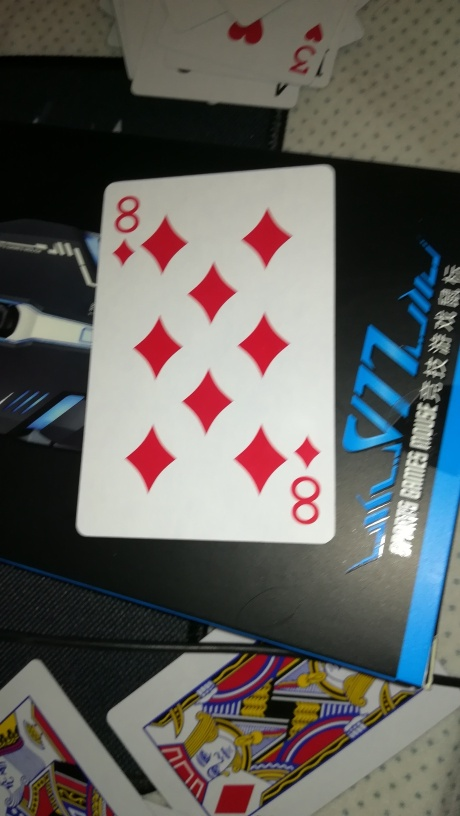fk 8: (76, 163, 336, 544)
